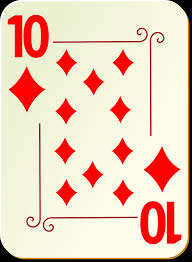ten of diamonds: (6, 10, 183, 250)
